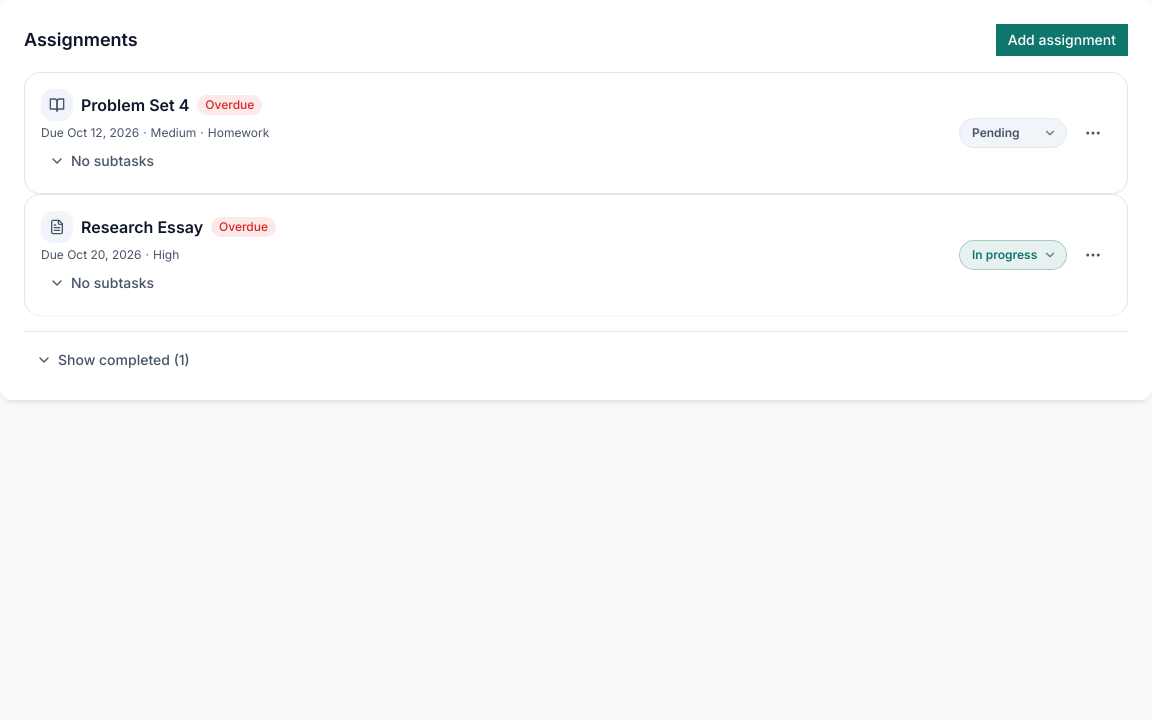
Scenario: AssignmentsSection (AC 4, D112-6) › opens the form from the primary small header button
The image size is (1152, 720).
Click the button "Add assignment". click: point(1062, 40)
box: [996, 24, 1128, 56]
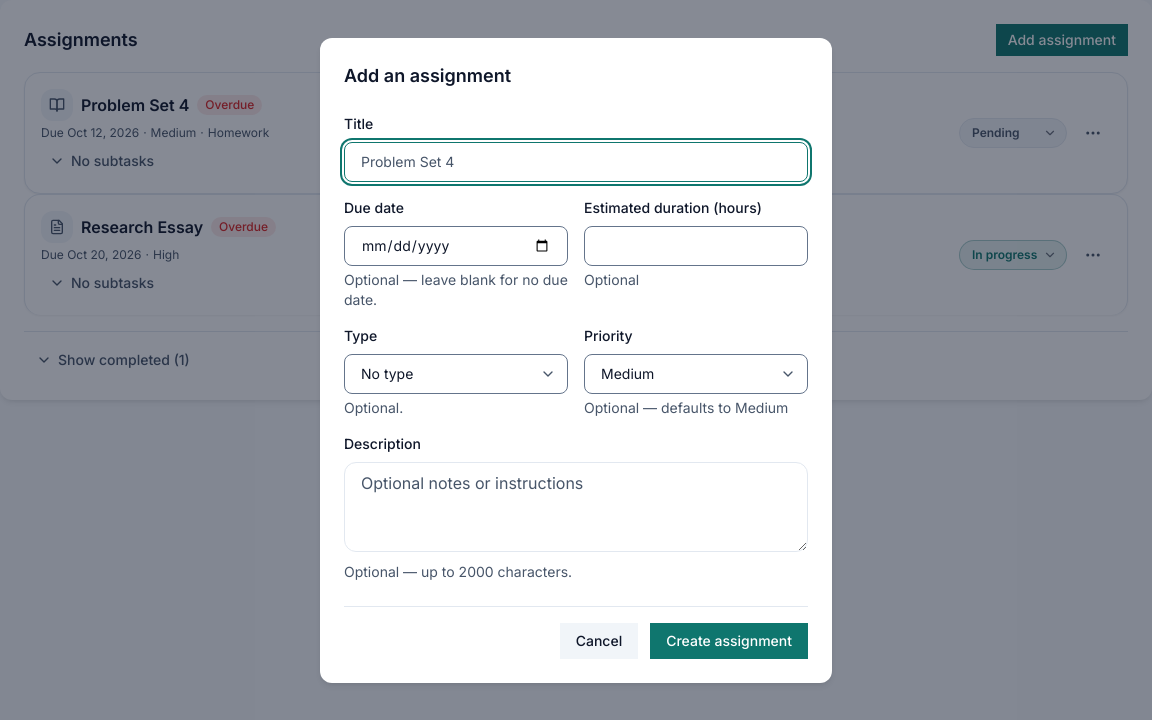
Now the dialog "Add an assignment" is shown, box [320, 38, 832, 682]
